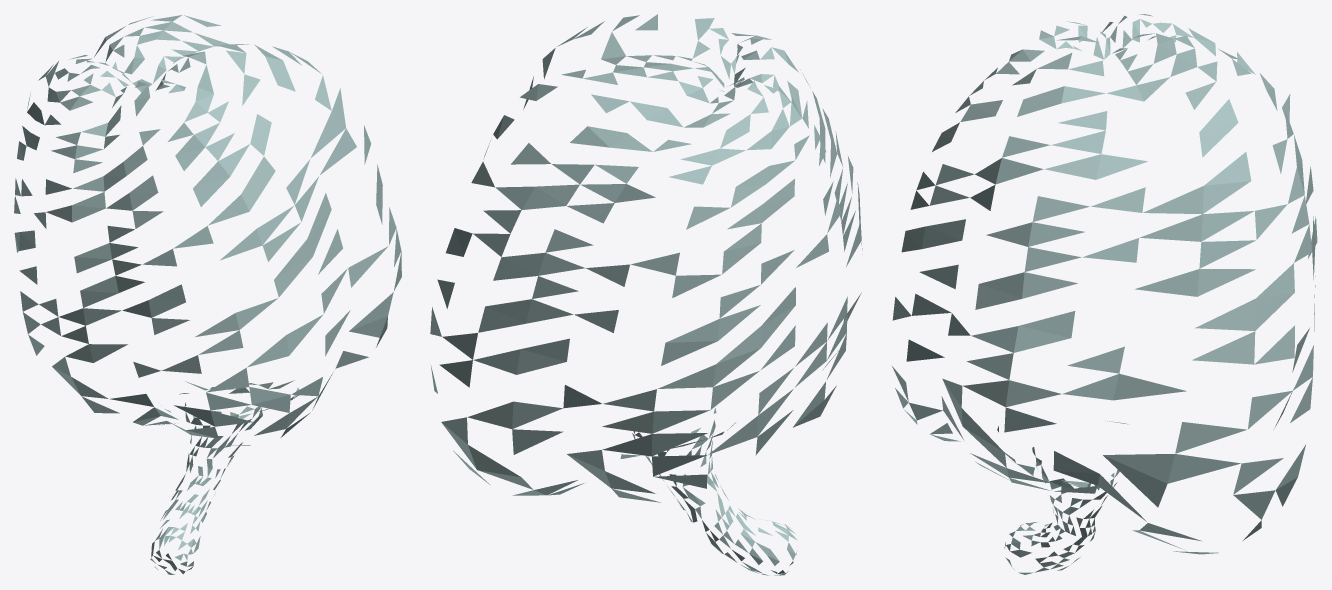
File: food_produce_bellPepper_d01.glb
The picture shows the model from 3 angles, left to right: view 1: azimuth 30°, elevation 25°; view 2: azimuth 150°, elevation 25°; view 3: azimuth 270°, elevation 25°; orthographic projection. The views are drawn at different scales.
Parts seen in each view (by area): view 1: geometry_0; view 2: geometry_0; view 3: geometry_0.
Part boxes in pixels (x1,y1,x2,y2): geometry_0: [14, 15, 401, 574]; geometry_0: [430, 14, 862, 575]; geometry_0: [892, 14, 1317, 574].
Bounding box in the file's own units: 0.3146 × 0.48 × 0.3294.
